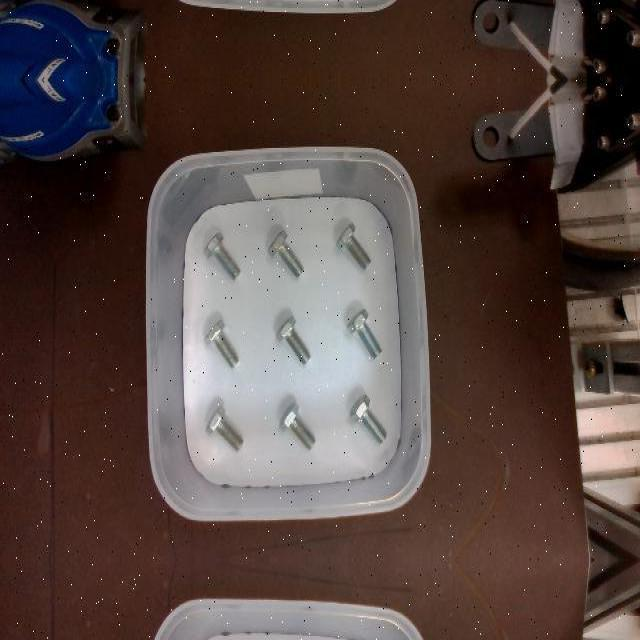screw: (203, 231, 240, 279), (347, 307, 382, 357), (206, 403, 244, 449), (276, 315, 312, 363), (351, 395, 387, 443), (268, 230, 304, 278), (204, 319, 239, 367), (280, 401, 316, 447), (336, 222, 371, 268)
